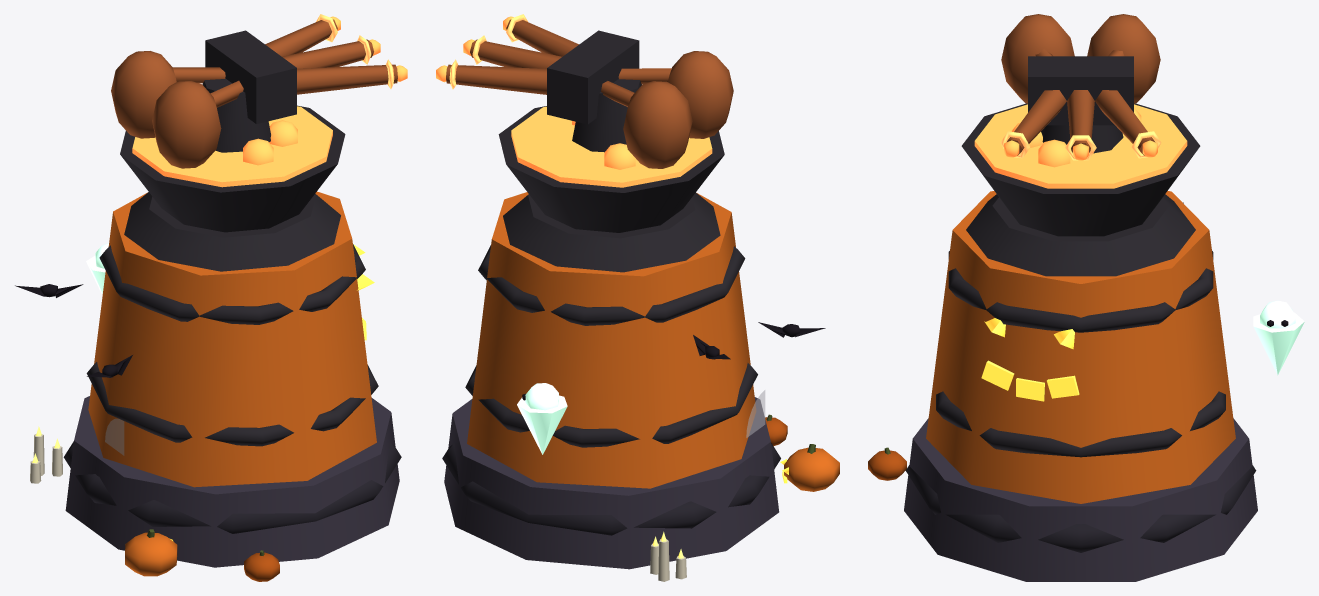
File: tower_flame_wildfire.glb
3 views of the same model, side by side, from view 1: azimuth 30°, elevation 25°; view 2: azimuth 150°, elevation 25°; view 3: azimuth 270°, elevation 25° (orthographic). The views are drawn at different scales.
Visible parts, largest first — view 1: body, base, brazier_foot, brazier_bowl, coals, manifold, soot_ring, gas_tank_0, body_band_0.3, body_band_0.15, gas_tank_1, nozzle_2 (+10 smaller); view 2: body, base, brazier_foot, brazier_bowl, coals, manifold, gas_tank_1, soot_ring, body_band_0.3, body_band_0.15, gas_tank_0, nozzle_post (+10 smaller); view 3: body, base, brazier_foot, brazier_bowl, coals, soot_ring, body_band_0.3, manifold, body_band_0.15, gas_tank_0, gas_tank_1, deco_hw_face (+8 smaller).
Boxes of the visible parts, box(x1,y1,x2,y2) form: body: box(88, 191, 376, 487); base: box(65, 396, 399, 567); brazier_foot: box(124, 192, 340, 271); brazier_bowl: box(120, 105, 345, 232); coals: box(132, 106, 332, 187); manifold: box(205, 30, 296, 124); soot_ring: box(63, 441, 401, 533); gas_tank_0: box(152, 81, 221, 168); body_band_0.3: box(99, 244, 365, 324); body_band_0.15: box(86, 362, 378, 446); gas_tank_1: box(111, 51, 176, 138); nozzle_2: box(297, 64, 397, 94); body: box(467, 192, 756, 488); base: box(444, 397, 779, 569); brazier_foot: box(503, 192, 720, 272); brazier_bowl: box(498, 106, 724, 232); coals: box(511, 106, 712, 187); manifold: box(547, 30, 639, 124); gas_tank_1: box(623, 81, 692, 168); soot_ring: box(442, 443, 780, 535); body_band_0.3: box(478, 245, 745, 325); body_band_0.15: box(465, 363, 757, 447); gas_tank_0: box(668, 51, 733, 138); nozzle_post: box(572, 79, 641, 152); body: box(926, 191, 1235, 503); base: box(904, 418, 1257, 581); brazier_foot: box(966, 194, 1195, 276); brazier_bowl: box(961, 103, 1200, 236); coals: box(974, 104, 1187, 188); soot_ring: box(905, 465, 1256, 552); body_band_0.3: box(948, 251, 1213, 332); manifold: box(1028, 56, 1133, 125); body_band_0.15: box(936, 391, 1225, 457); gas_tank_0: box(1001, 14, 1074, 103); gas_tank_1: box(1087, 14, 1160, 103); deco_hw_face: box(981, 360, 1079, 401).
Size of the model in its own units: 0.4417 by 0.5746 by 0.4932.
